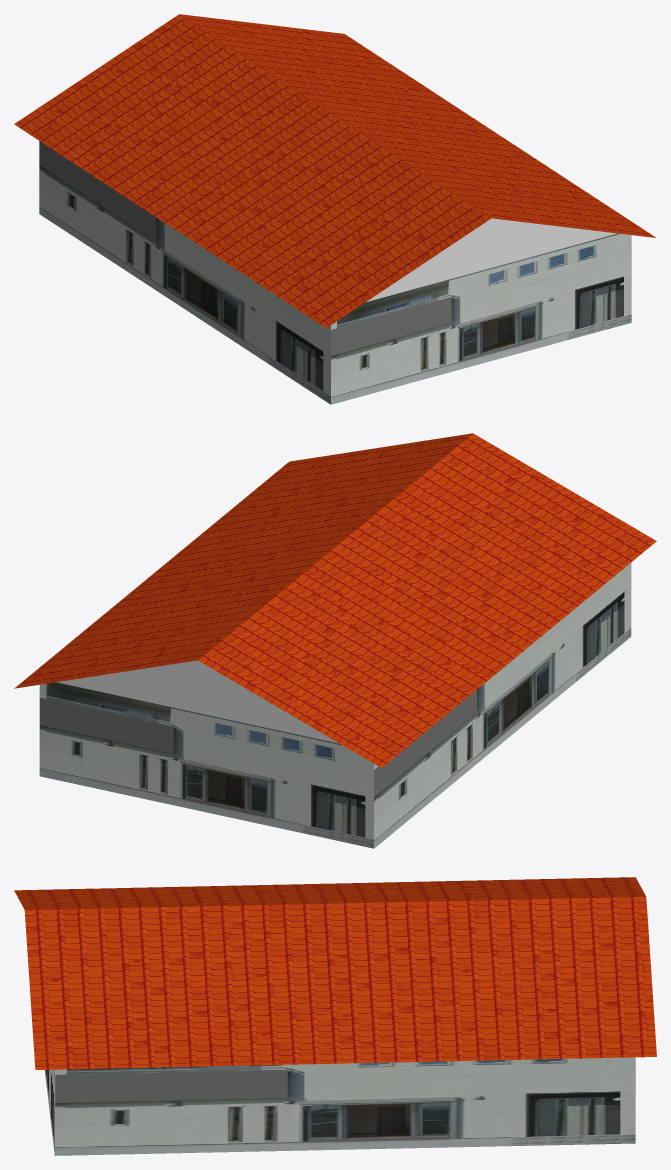
3 views of the same model, one above another, from view 1: azimuth 30°, elevation 25°; view 2: azimuth 150°, elevation 25°; view 3: azimuth 270°, elevation 25° (orthographic). The views are drawn at different scales.
Parts seen in each view (by area): view 1: CityEngineMaterial_12_m, CityEngineMaterial_11_m, CityEngineMaterial_3_m; view 2: CityEngineMaterial_12_m, CityEngineMaterial_11_m, CityEngineMaterial_3_m; view 3: CityEngineMaterial_12_m, CityEngineMaterial_11_m.
Boxes of the visible parts, x1,y1,x2,y2 form: CityEngineMaterial_12_m: (14, 14, 656, 328); CityEngineMaterial_11_m: (39, 141, 631, 404); CityEngineMaterial_3_m: (366, 218, 617, 301); CityEngineMaterial_12_m: (14, 433, 656, 768); CityEngineMaterial_11_m: (39, 563, 631, 848); CityEngineMaterial_3_m: (56, 660, 338, 743); CityEngineMaterial_12_m: (14, 877, 656, 1069); CityEngineMaterial_11_m: (44, 1057, 635, 1155).
Bounding box in the file's own units: 22.23 × 8.84 × 31.3.
